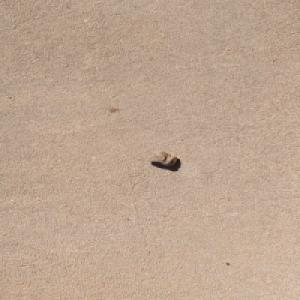Rock: (146, 150, 177, 166)
